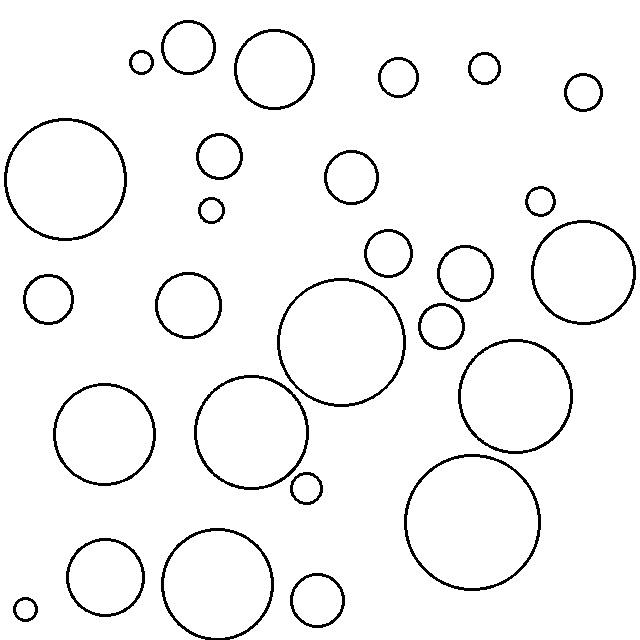circle: (400, 448, 546, 595), (274, 274, 409, 410), (4, 112, 131, 246), (453, 335, 578, 458), (190, 369, 313, 494), (157, 523, 279, 639), (528, 216, 639, 329), (49, 377, 159, 491), (230, 26, 319, 116), (62, 532, 150, 623), (150, 265, 229, 344), (433, 241, 498, 306), (320, 145, 384, 211), (157, 17, 222, 80), (287, 570, 351, 633), (19, 269, 79, 331), (360, 223, 418, 283), (192, 128, 248, 185), (415, 300, 469, 353), (375, 52, 424, 102), (560, 66, 608, 117), (286, 466, 327, 509), (464, 48, 506, 89), (521, 181, 562, 222), (192, 192, 229, 229), (10, 592, 44, 627), (125, 44, 157, 81)
